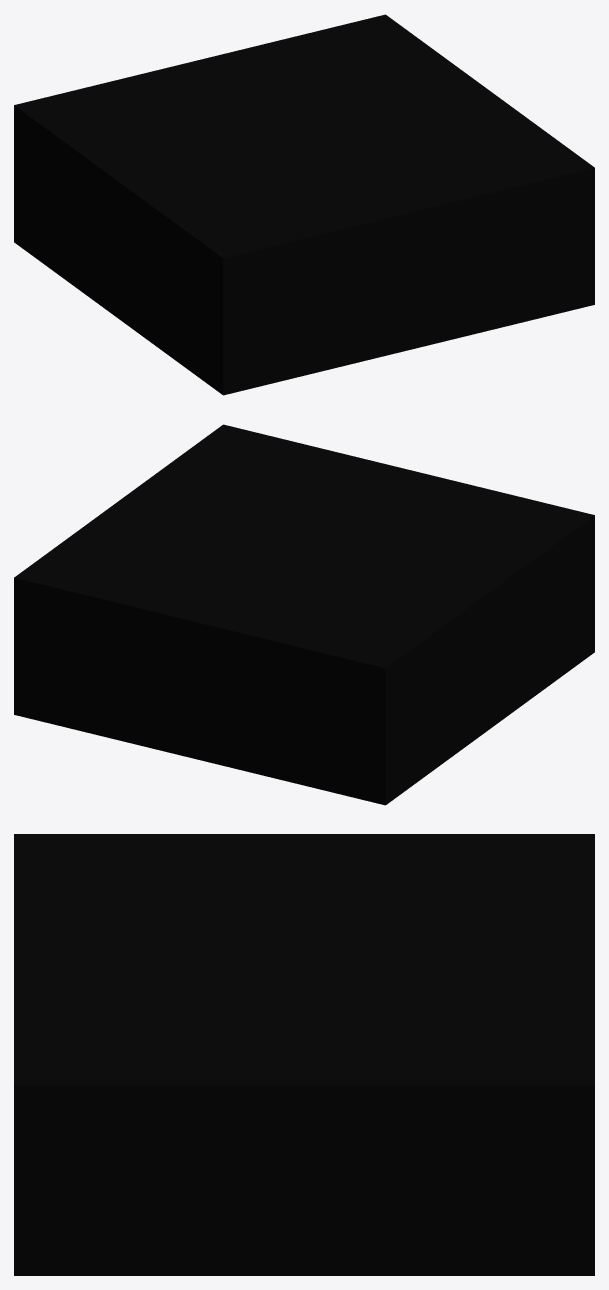
File: BowlingField.glb
3 renders of one model, top to bottom at view 1: azimuth 30°, elevation 25°; view 2: azimuth 150°, elevation 25°; view 3: azimuth 270°, elevation 25°, orthographic. The views are drawn at different scales.
Parts seen in each view (by area): view 1: alpha_z; view 2: alpha_z; view 3: alpha_z.
Part boxes in pixels (box(x1,y1,x2,y2)): alpha_z: box(14, 14, 594, 395); alpha_z: box(14, 424, 594, 805); alpha_z: box(14, 834, 594, 1275).
Size of the model in its own units: 113 by 39.77 by 110.
29 materials, 29 textured.
